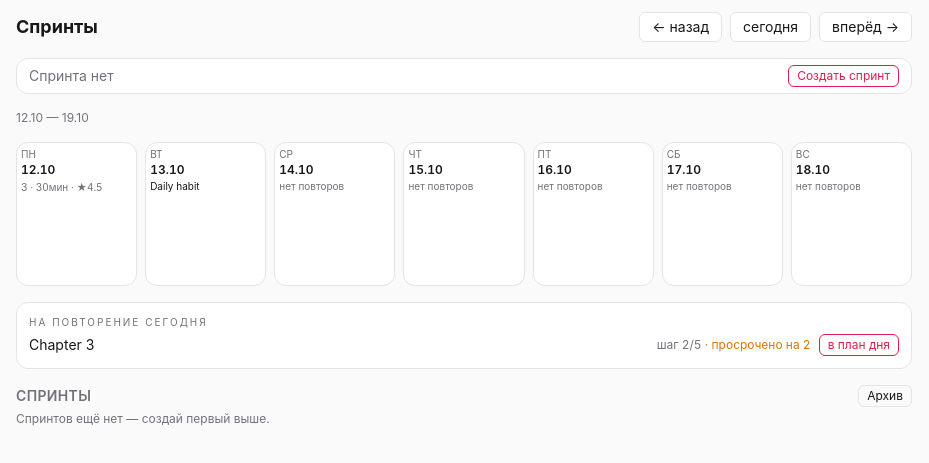
it: WeekScreen › due queue renders rows, overdue days and plans via the add primitive
This screenshot has width=929, height=463.
Expected: the element with test id "week.due-section" shows "Chapter 3", [29, 336, 94, 353]
Expected: the list item with test id "week.due-row-d-1" shows "просрочено на 2", [29, 334, 899, 356]
Click the button with test id "week.due-add-d-1" at (859, 345), box [819, 334, 899, 356]
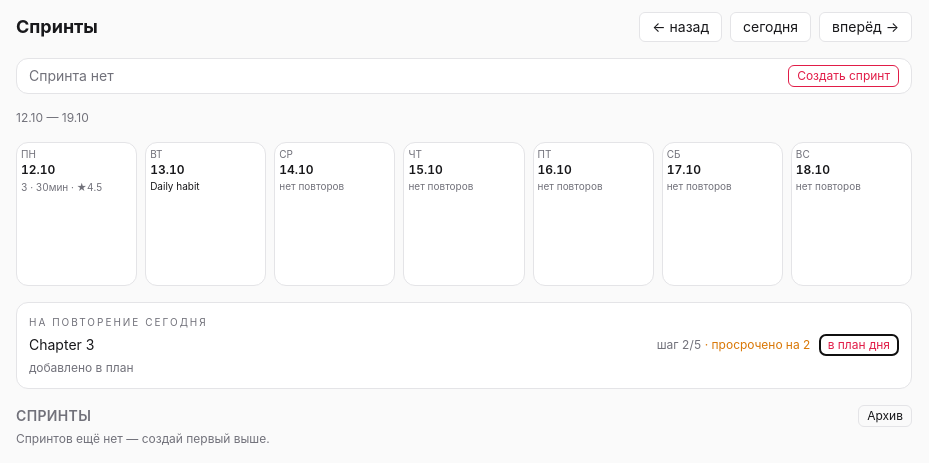
Expected: the text with test id "week.due-flash" reads "добавлено в план", [29, 360, 134, 375]
